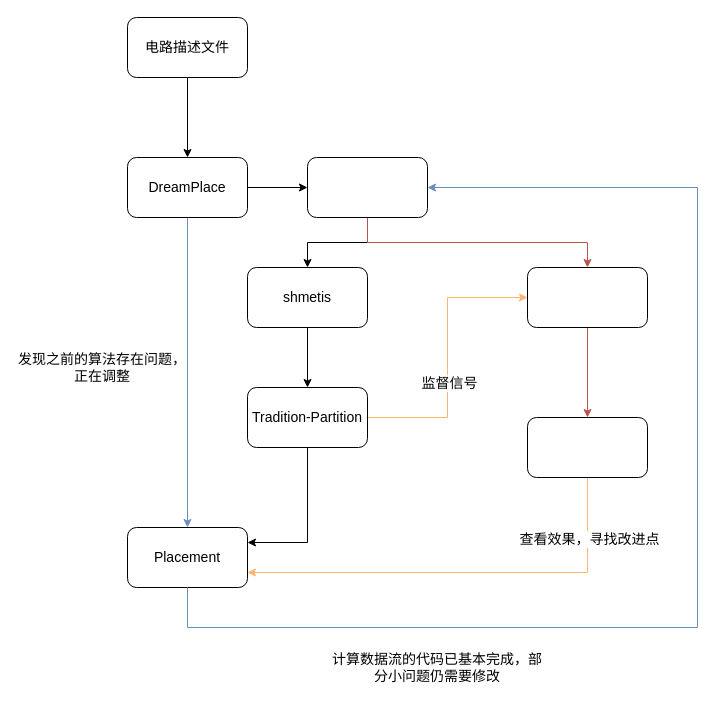
Some shapes in this 723 by 715 pixel diagram are drawn without their labels. The centre of each missing label's shape, as x and y in pixels:
GNN: [587,297]
HyperGraph: [367,187]
ML-Partition: [587,447]
